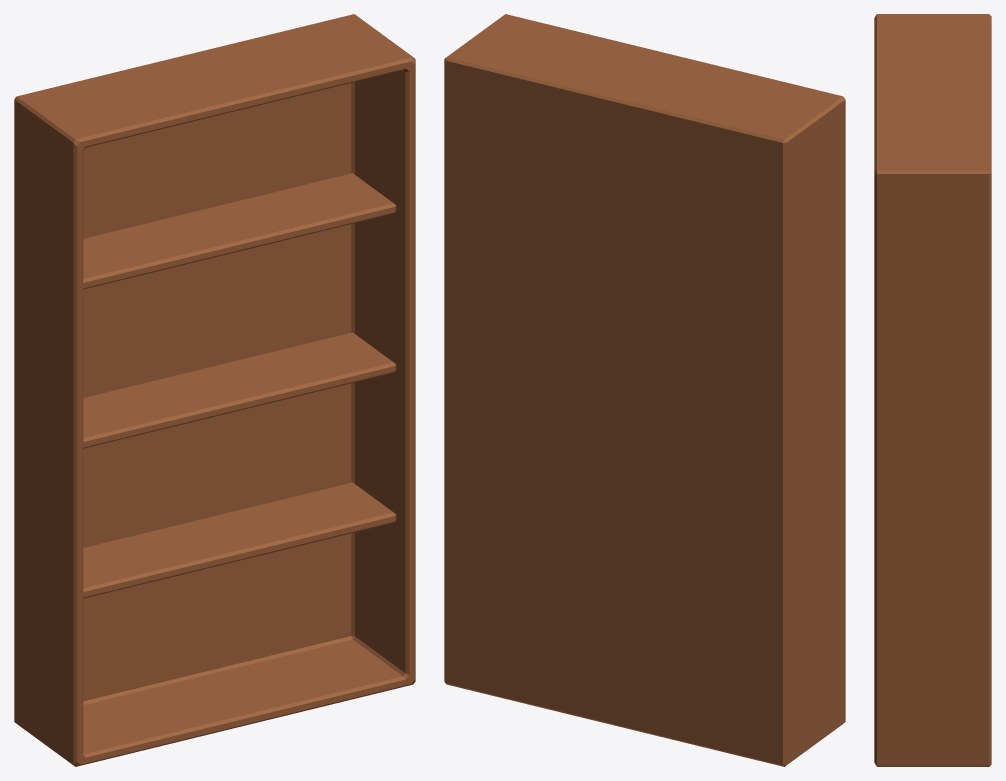
The model's file is Shelf D.glb.
The picture shows the model from 3 angles, left to right: view 1: azimuth 30°, elevation 25°; view 2: azimuth 150°, elevation 25°; view 3: azimuth 270°, elevation 25°; orthographic projection. The views are drawn at different scales.
Parts seen in each view (by area): view 1: Shelf D; view 2: Shelf D; view 3: Shelf D.
Part boxes in pixels (left/top/right/bottom): Shelf D: left=14, top=14, right=415, bottom=766; Shelf D: left=444, top=14, right=845, bottom=766; Shelf D: left=874, top=14, right=991, bottom=766.
Bounding box in the file's own units: 1.23 × 2.15 × 0.3829.
